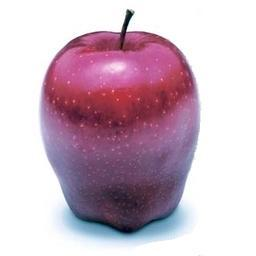apple: (38, 24, 197, 229)
